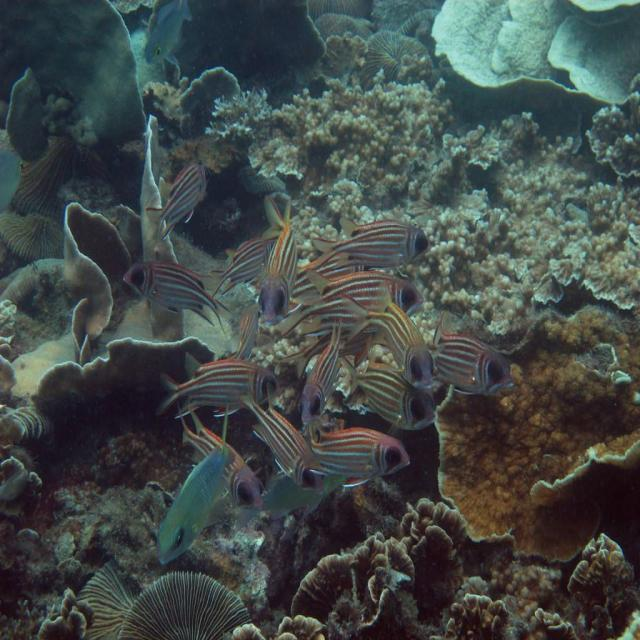Asker Baligi: (114, 257, 235, 325), (303, 270, 424, 332), (423, 323, 521, 396), (238, 406, 319, 494), (151, 364, 279, 418), (306, 428, 412, 493), (347, 366, 441, 434), (287, 335, 359, 422), (154, 148, 212, 248), (260, 205, 304, 334), (322, 213, 436, 260), (210, 231, 272, 303)
